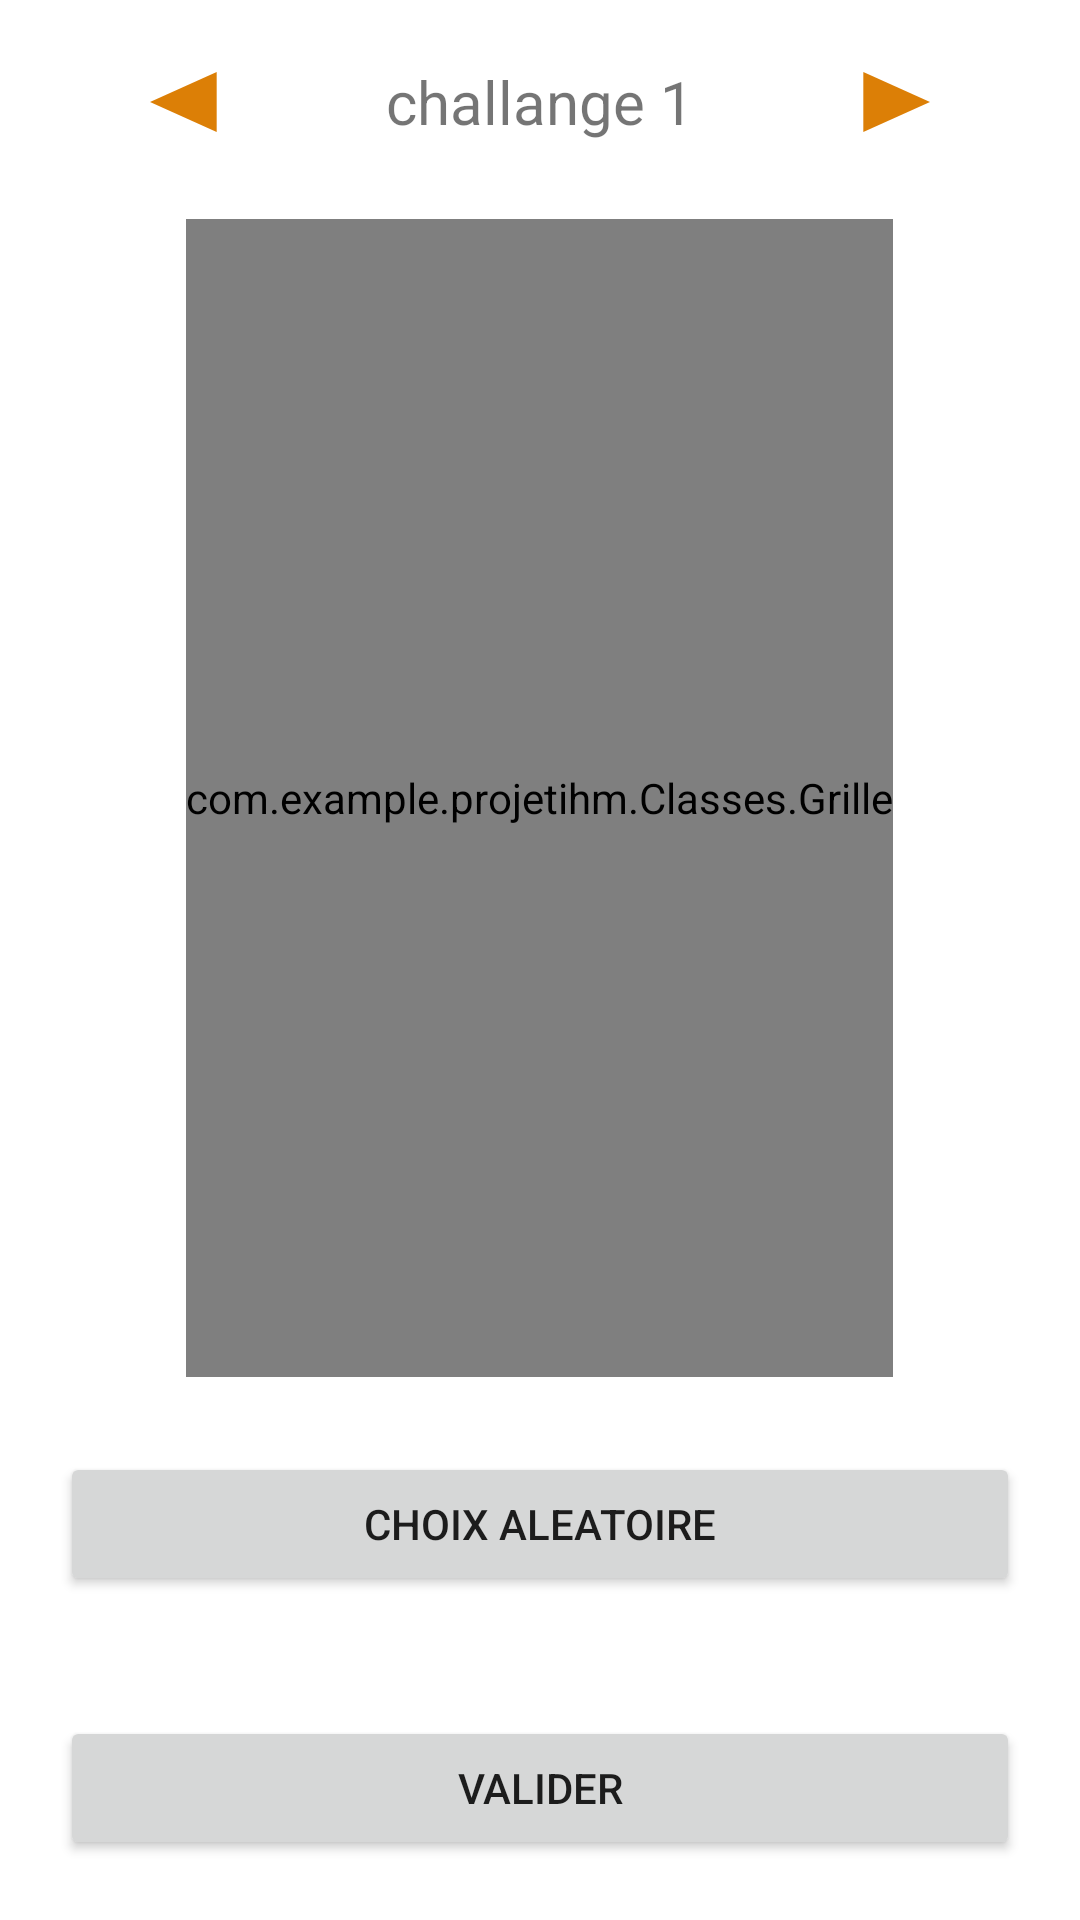

Point at icon controls on the screen. Image size 1080x1920, points as (x=x, y=y).
left arrow: (x=183, y=102)
right arrow: (x=896, y=102)
